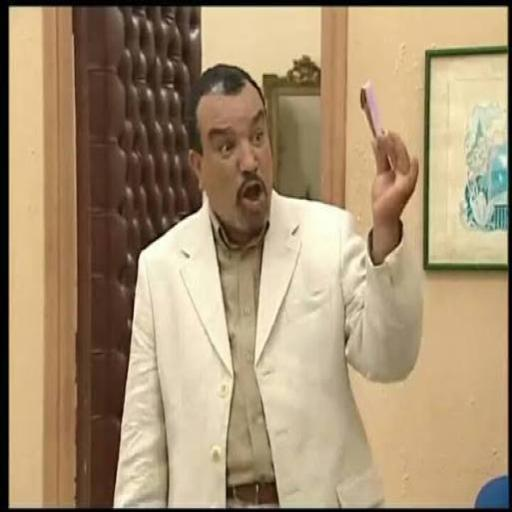slimane: (188, 63, 272, 245)
